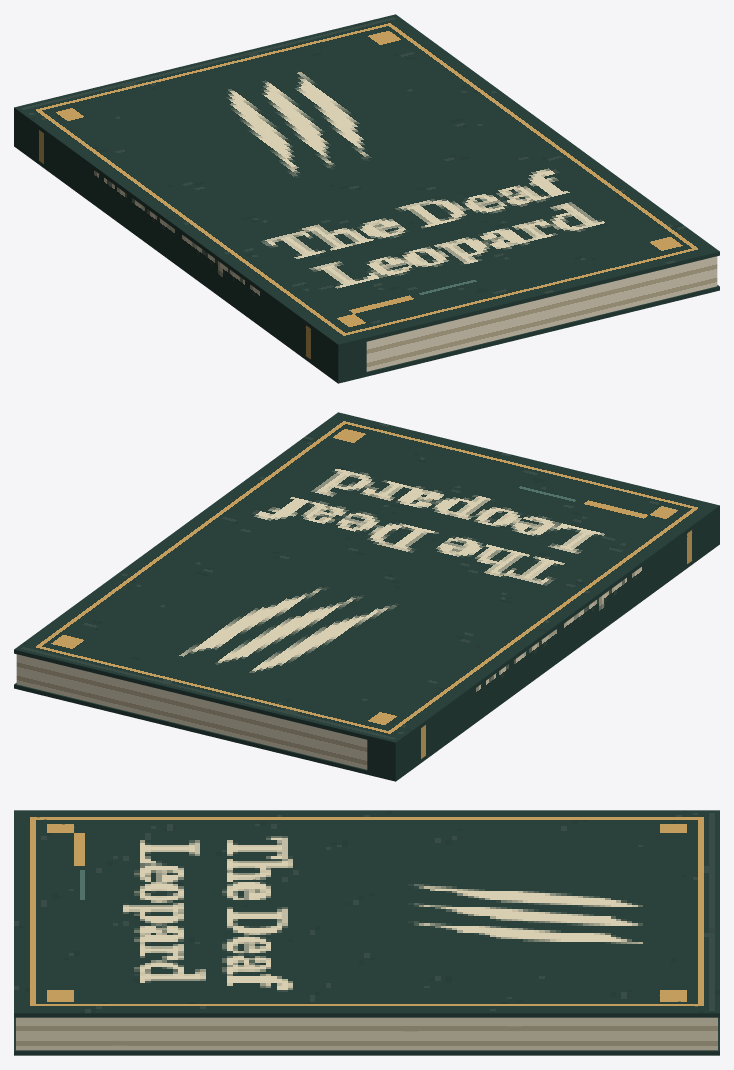
The model's file is manual_leopard.glb.
The picture shows the model from 3 angles, top to bottom: view 1: azimuth 30°, elevation 25°; view 2: azimuth 150°, elevation 25°; view 3: azimuth 270°, elevation 25°; orthographic projection. The views are drawn at different scales.
Parts seen in each view (by area): view 1: block_front cover, block_spine, block_page block, block_back cover; view 2: block_front cover, block_spine, block_page block, block_back cover; view 3: block_front cover, block_page block, block_back cover.
Boxes of the visible parts, x1,y1,x2,y2 form: block_front cover: (14, 14, 719, 348); block_spine: (14, 111, 366, 379); block_page block: (366, 256, 717, 371); block_back cover: (14, 142, 719, 383); block_front cover: (14, 412, 719, 746); block_spine: (367, 509, 719, 777); block_page block: (16, 654, 367, 769); block_back cover: (14, 540, 719, 781); block_front cover: (14, 810, 719, 1017); block_page block: (16, 1017, 717, 1050); block_back cover: (14, 1017, 719, 1055).
Size of the model in its own units: 0.1204 by 0.0117 by 0.177.
1 material, 1 textured.
